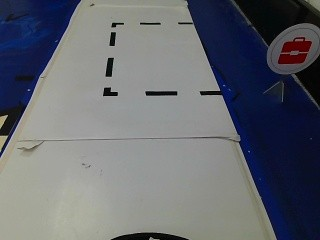company: (268, 26, 318, 75)
